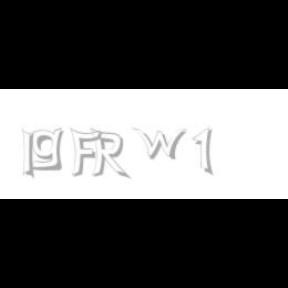1: (192, 128, 214, 176)
F: (69, 128, 101, 178)
I: (22, 128, 36, 180)
R: (90, 128, 128, 180)
g: (31, 128, 68, 171)
w: (132, 128, 192, 160)
